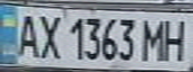1: (63, 12, 84, 61)
3: (115, 15, 139, 62), (81, 14, 103, 61)
6: (100, 15, 121, 61)
A: (9, 10, 42, 60)
H: (160, 15, 193, 62)
M: (139, 16, 172, 62)
X: (33, 11, 63, 61)
